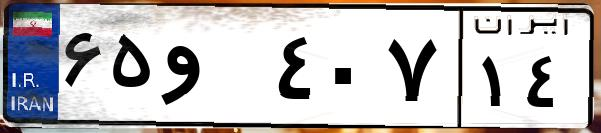0: (330, 28, 385, 110)
1: (475, 38, 525, 113)
4: (270, 28, 330, 110), (525, 38, 570, 115)
5: (110, 28, 158, 98)
6: (57, 26, 110, 100)
7: (385, 28, 445, 110)
و: (158, 20, 270, 120)
